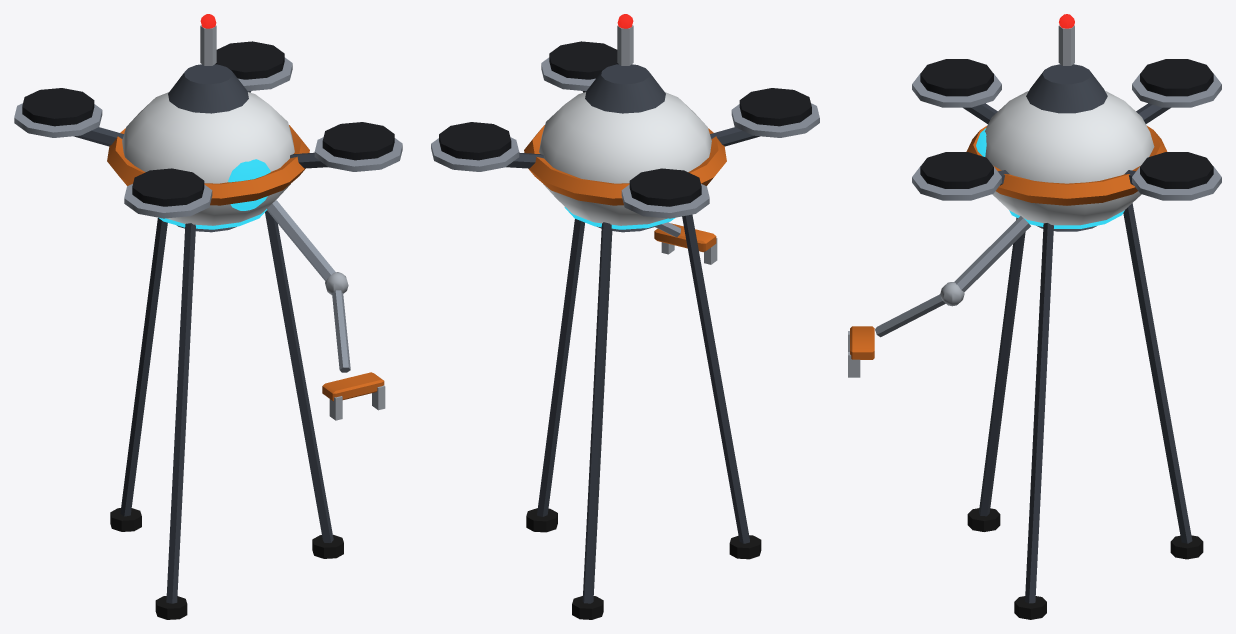
Rendered from cleaningbot_service_drone_with_arm.glb.
3 views of the same model, side by side, from view 1: azimuth 30°, elevation 25°; view 2: azimuth 150°, elevation 25°; view 3: azimuth 270°, elevation 25° (orthographic).
Parts seen in each view (by area): view 1: cleaningbot_service_drone_with_arm; view 2: cleaningbot_service_drone_with_arm; view 3: cleaningbot_service_drone_with_arm.
Boxes of the visible parts, x1=… form: cleaningbot_service_drone_with_arm: x1=14, y1=14, x2=402, y2=619; cleaningbot_service_drone_with_arm: x1=431, y1=14, x2=819, y2=619; cleaningbot_service_drone_with_arm: x1=848, y1=14, x2=1221, y2=619.
Bounding box in the file's own units: 0.7466 × 1.48 × 0.9137.
